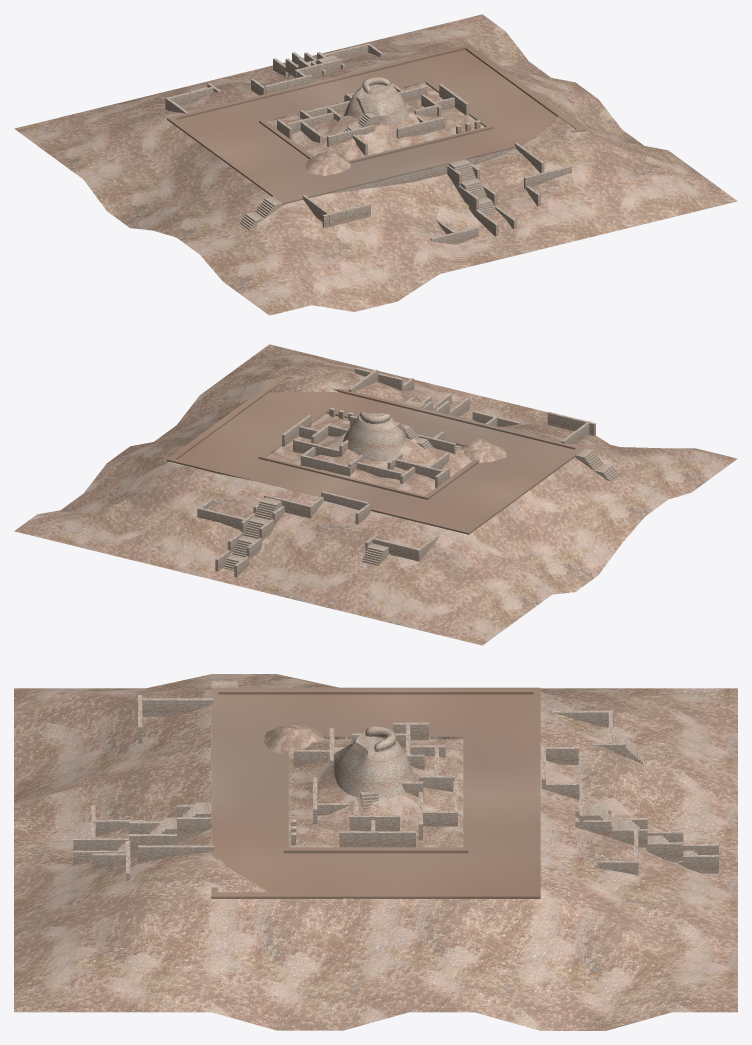
The model's file is Manjodaro.glb.
3 renders of one model, top to bottom at view 1: azimuth 30°, elevation 25°; view 2: azimuth 150°, elevation 25°; view 3: azimuth 270°, elevation 25°, orthographic. The views are drawn at different scales.
Visible parts, largest first — view 1: Plane.001, Plane, Cylinder, Icosphere, Cube.055, Cube.013, Cube.068; view 2: Plane.001, Plane, Cylinder, Icosphere, Cube.055, Cube.014, Cube.052; view 3: Plane.001, Plane, Cylinder, Cube.004, Icosphere, Cube.054, Cube.058, Cube.002, Cube.066, Cube.062, Cube.032, Cube.047 (+2 smaller).
Part boxes in pixels (left/top/right/bottom): Plane.001: left=14, top=14, right=737, bottom=315; Plane: left=167, top=44, right=585, bottom=204; Cylinder: left=343, top=84, right=408, bottom=124; Icosphere: left=305, top=151, right=350, bottom=175; Cube.055: left=322, top=204, right=370, bottom=227; Cube.013: left=396, top=117, right=444, bottom=138; Cube.068: left=524, top=166, right=571, bottom=189; Plane.001: left=14, top=344, right=737, bottom=645; Plane: left=166, top=374, right=584, bottom=534; Cylinder: left=343, top=413, right=406, bottom=461; Icosphere: left=460, top=439, right=506, bottom=462; Cube.055: left=547, top=412, right=595, bottom=436; Cube.014: left=303, top=455, right=351, bottom=476; Cube.052: left=197, top=508, right=244, bottom=529; Plane.001: left=14, top=674, right=737, bottom=1030; Plane: left=211, top=687, right=540, bottom=898; Cylinder: left=334, top=733, right=416, bottom=798; Cube.004: left=339, top=831, right=415, bottom=847; Icosphere: left=264, top=723, right=325, bottom=754; Cube.054: left=137, top=698, right=213, bottom=716; Cube.058: left=138, top=845, right=214, bottom=863; Cube.002: left=349, top=815, right=399, bottom=831; Cube.066: left=129, top=834, right=193, bottom=852; Cube.062: left=73, top=838, right=127, bottom=850; Cube.032: left=552, top=710, right=613, bottom=727; Cube.047: left=683, top=855, right=718, bottom=873.
Size of the model in its own units: 35 by 7.14 by 33.05.
Materials: 2 (2 with a texture image).
